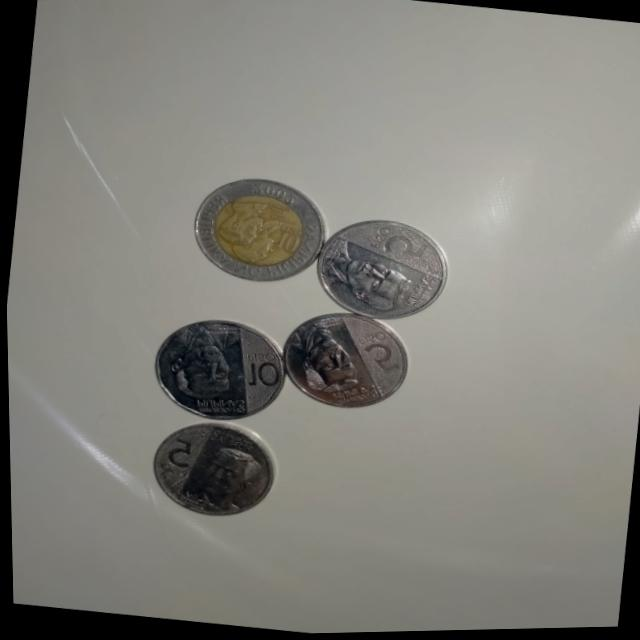10_New_Front: (158, 318, 284, 417)
10_Old_Front: (195, 171, 322, 286)
5_New_Front: (148, 424, 276, 517), (290, 314, 404, 406)
